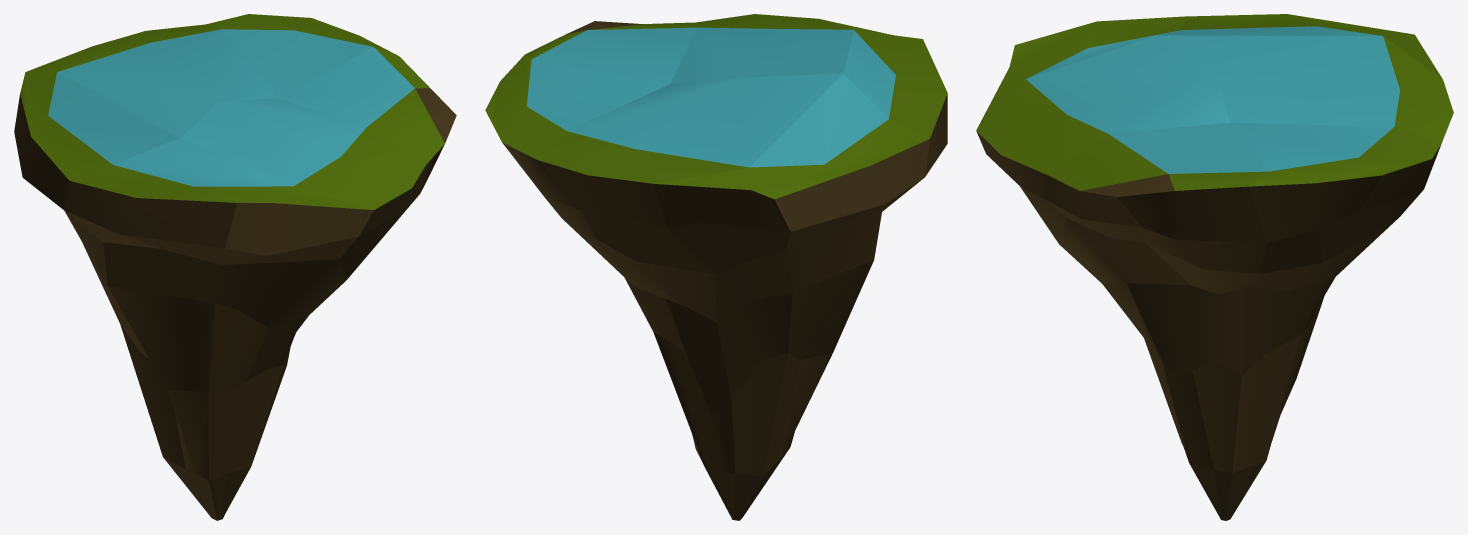
File: Floating_Platform_3.fbx
3 views of the same model, side by side, from view 1: azimuth 30°, elevation 25°; view 2: azimuth 150°, elevation 25°; view 3: azimuth 270°, elevation 25° (orthographic). The views are drawn at different scales.
Visible parts, largest first — view 1: polySurface468; view 2: polySurface468; view 3: polySurface468.
Boxes of the visible parts, box(x1,y1,x2,y2) form: polySurface468: box(14, 14, 456, 520); polySurface468: box(485, 14, 947, 520); polySurface468: box(976, 14, 1453, 520).
Bounding box in the file's own units: 6.54 × 7.29 × 7.06.
